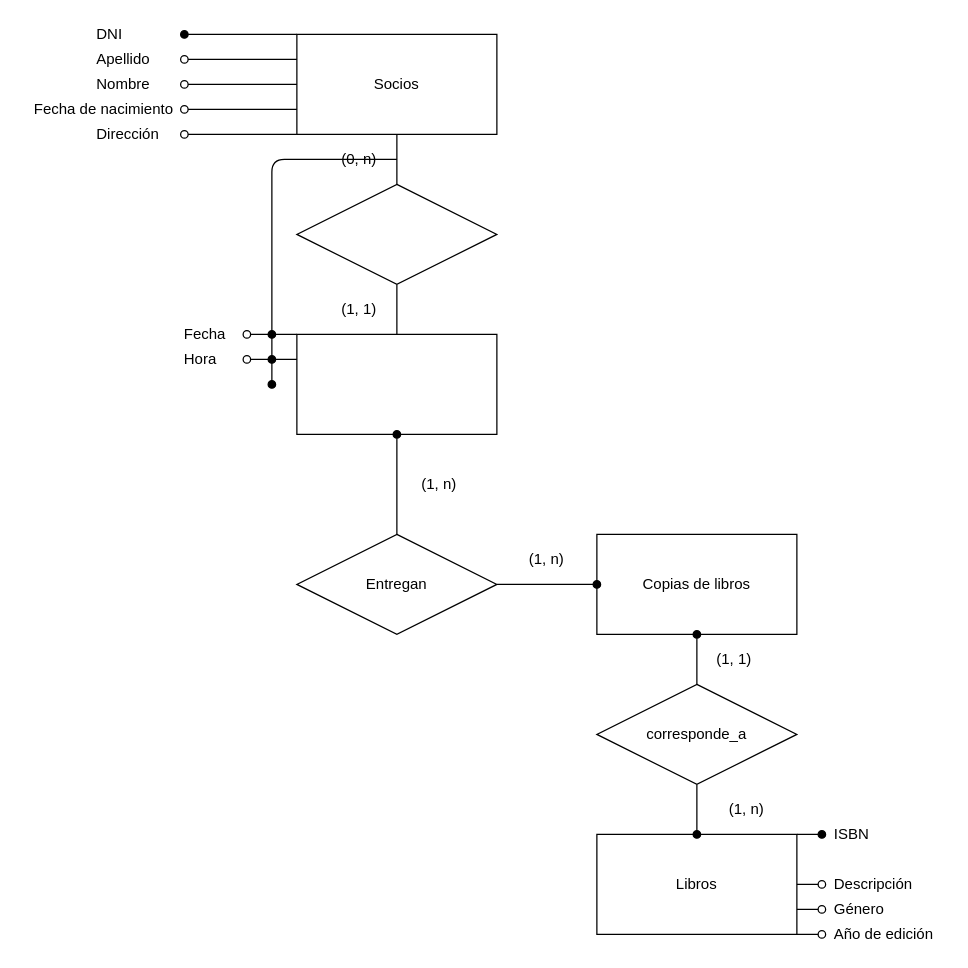
Image size: 968x968. Some labels were removed from this diagram. The centre of each missing label's shape, as x and y in pixels:
"Préstamos" goes at [396,383].
"Solicitan" goes at [396,233].
